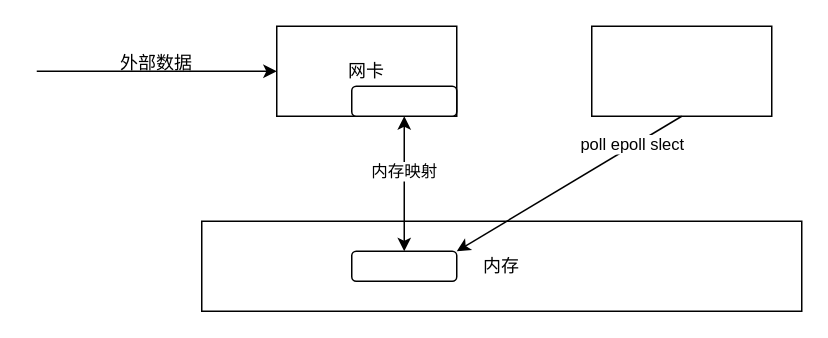
The diagram is 828 pixels wide and 338 high, and some of its shapes have lost their labels. Each missing label, with the centre of its shape:
"cpu" goes at point 681,70.
"sk_buff" goes at point 403,100.
